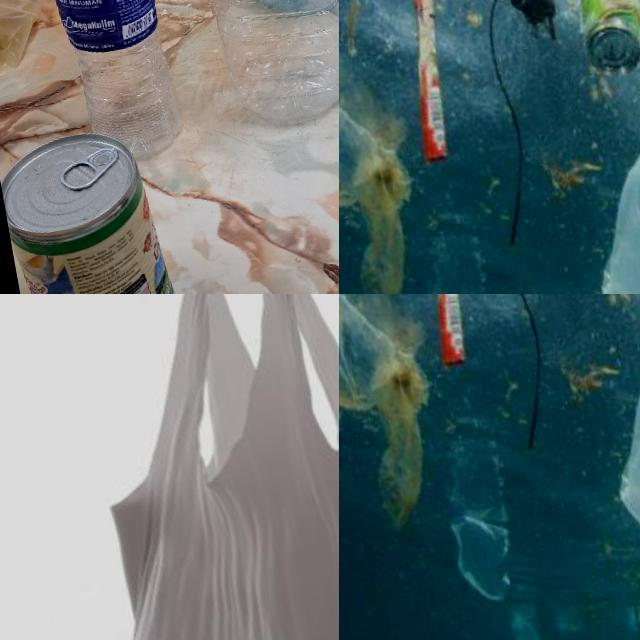garrafa plástica: (31, 0, 187, 170), (157, 0, 339, 133)
lata: (0, 122, 186, 294), (56, 140, 126, 197)
sacola plástica: (45, 294, 339, 640), (551, 0, 640, 294), (569, 294, 640, 640)
